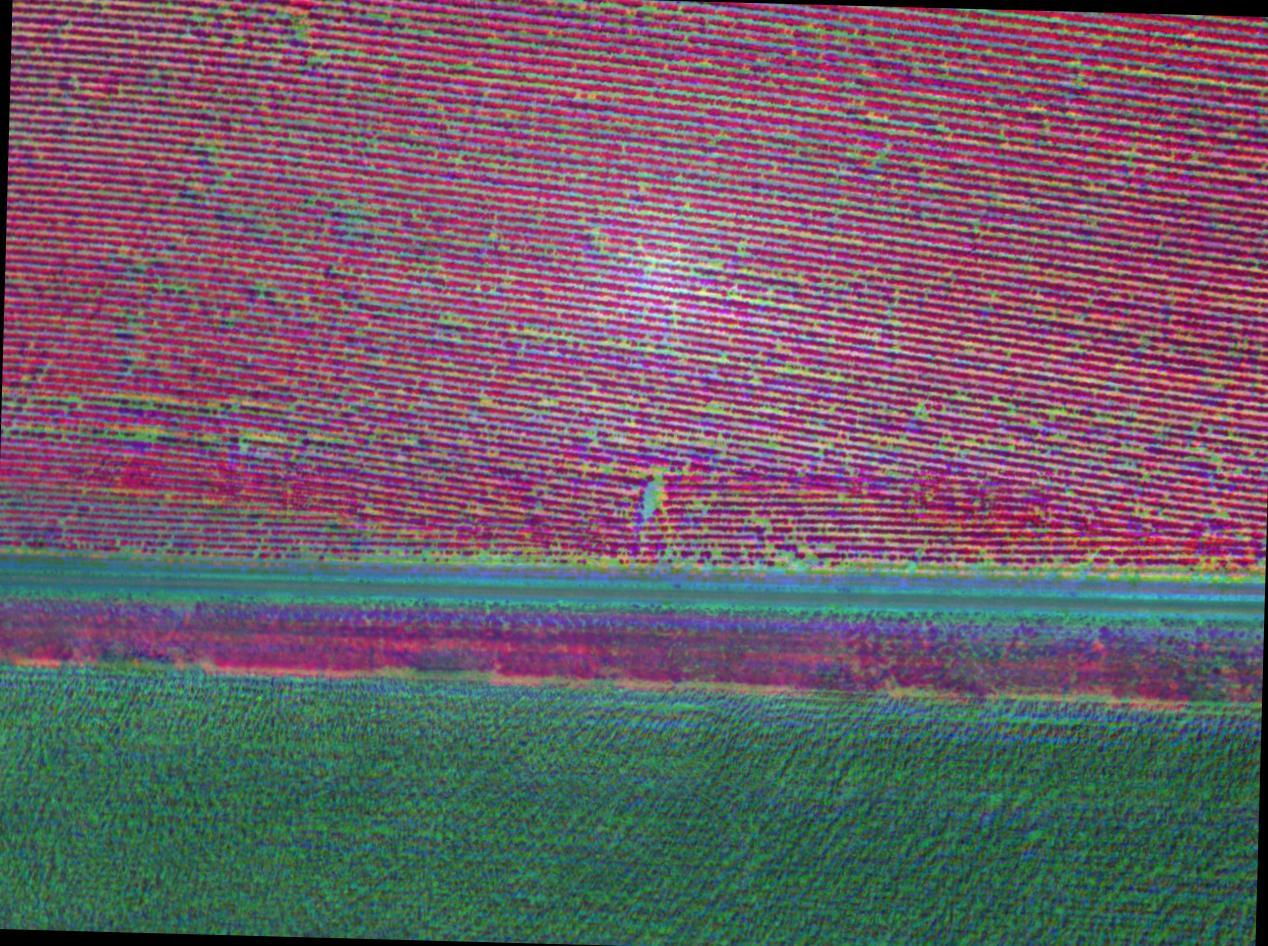dc: (713, 264, 717, 269), (138, 435, 143, 439), (879, 158, 883, 162), (741, 243, 745, 247), (608, 341, 612, 345), (378, 362, 382, 366), (71, 397, 75, 401), (233, 407, 237, 411), (776, 24, 779, 28)
